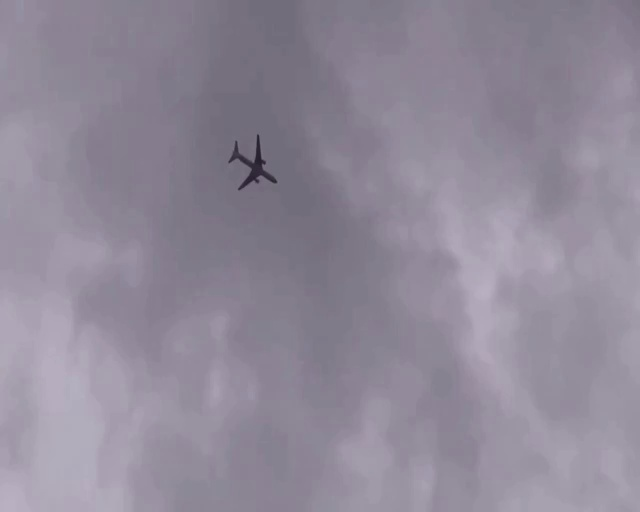AIRPLANE: (228, 133, 277, 189)
